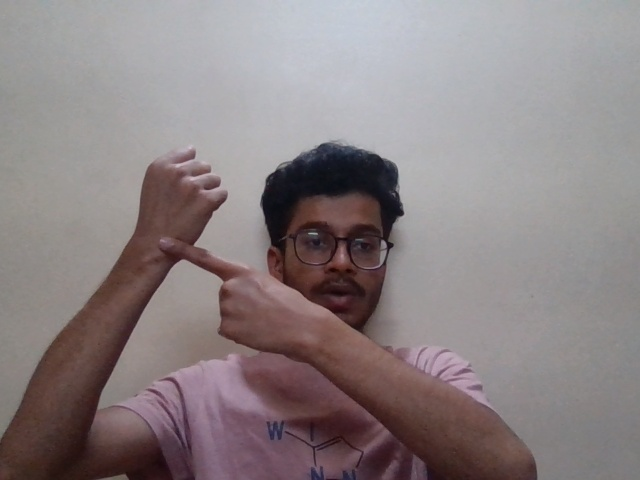time: (112, 145, 292, 360)
